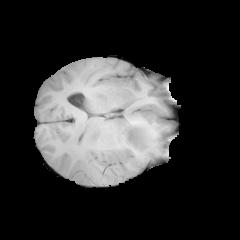glioma: (57, 110, 162, 151)
